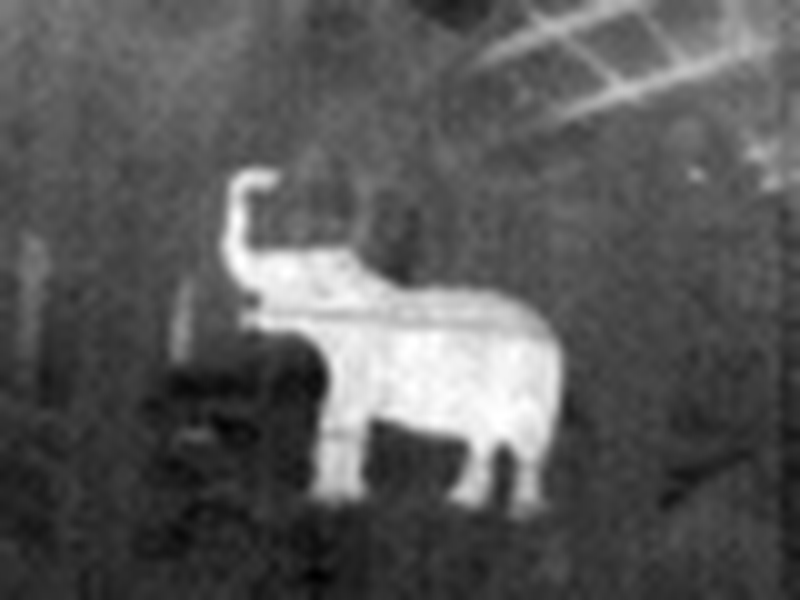elephant: (215, 169, 544, 516)
